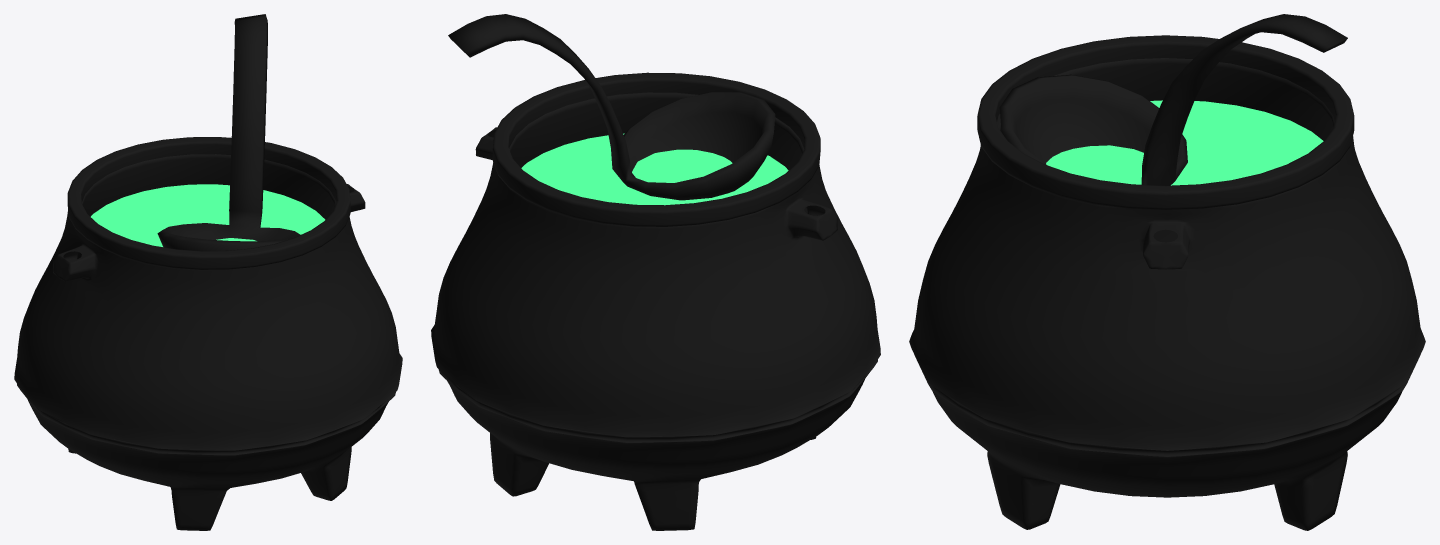
Rendered from Cauldron.glb.
3 renders of one model, left to right at view 1: azimuth 30°, elevation 25°; view 2: azimuth 150°, elevation 25°; view 3: azimuth 270°, elevation 25°, orthographic. The views are drawn at different scales.
Parts seen in each view (by area): view 1: Cauldron, Spon, Potion; view 2: Cauldron, Spon, Potion; view 3: Cauldron, Spon, Potion.
Boxes of the visible parts, x1,y1,x2,y2 form: Cauldron: (14, 137, 402, 530); Spon: (157, 14, 300, 250); Potion: (91, 184, 325, 246); Cauldron: (431, 72, 880, 530); Spon: (448, 14, 775, 200); Potion: (521, 133, 788, 205); Cauldron: (909, 35, 1425, 530); Spon: (999, 14, 1347, 185); Potion: (1046, 100, 1323, 185).
Bounding box in the file's own units: 1.82 × 2.01 × 1.82.
